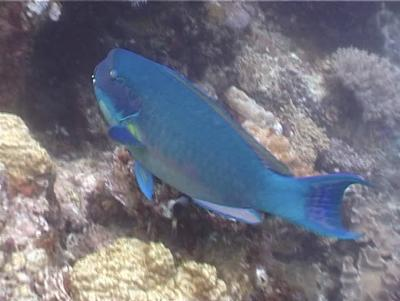Scaridae -Parrotfishes-: (84, 34, 381, 244)
